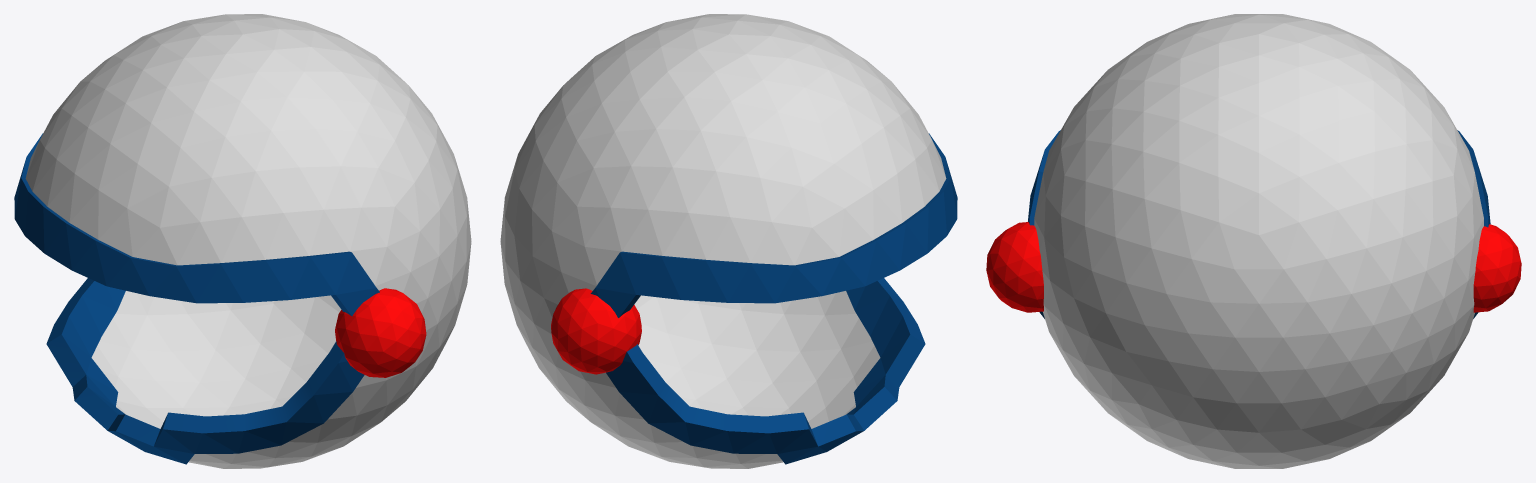
The model's file is SMALLHELMET.FBX.
3 views of the same model, side by side, from view 1: azimuth 30°, elevation 25°; view 2: azimuth 150°, elevation 25°; view 3: azimuth 270°, elevation 25° (orthographic).
Visible parts, largest first — view 1: GeoSphere001, RIG, GeoSphere003; view 2: GeoSphere001, RIG, GeoSphere002; view 3: GeoSphere001, GeoSphere003, GeoSphere002, RIG.
Part boxes in pixels (x1=…): GeoSphere001: x1=25, y1=14, x2=471, y2=468; RIG: x1=14, y1=133, x2=379, y2=464; GeoSphere003: x1=335, y1=288, x2=426, y2=377; GeoSphere001: x1=500, y1=14, x2=946, y2=468; RIG: x1=590, y1=133, x2=957, y2=464; GeoSphere002: x1=551, y1=288, x2=641, y2=374; GeoSphere001: x1=1034, y1=14, x2=1483, y2=468; GeoSphere003: x1=986, y1=222, x2=1043, y2=312; GeoSphere002: x1=1473, y1=224, x2=1521, y2=312; RIG: x1=1028, y1=130, x2=1490, y2=318.
Size of the model in its own units: 523 by 523 by 612.
